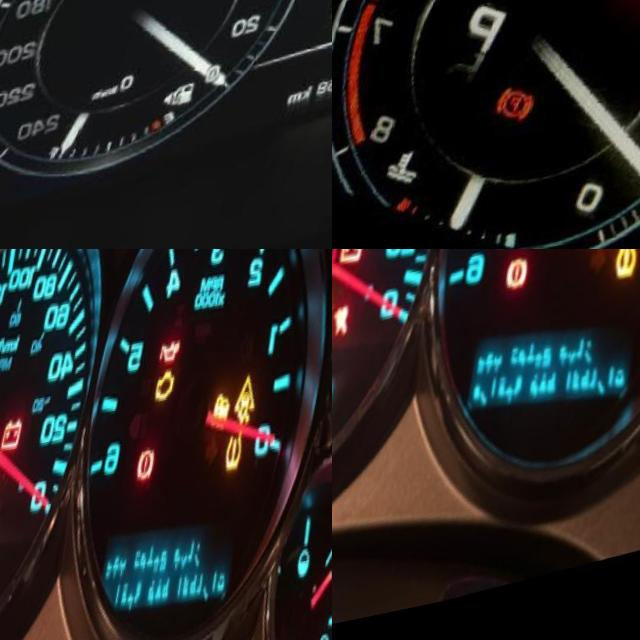Engine cooling system: (384, 156, 444, 218)
Low fuel level: (189, 81, 229, 124)
security: (600, 249, 636, 260)
